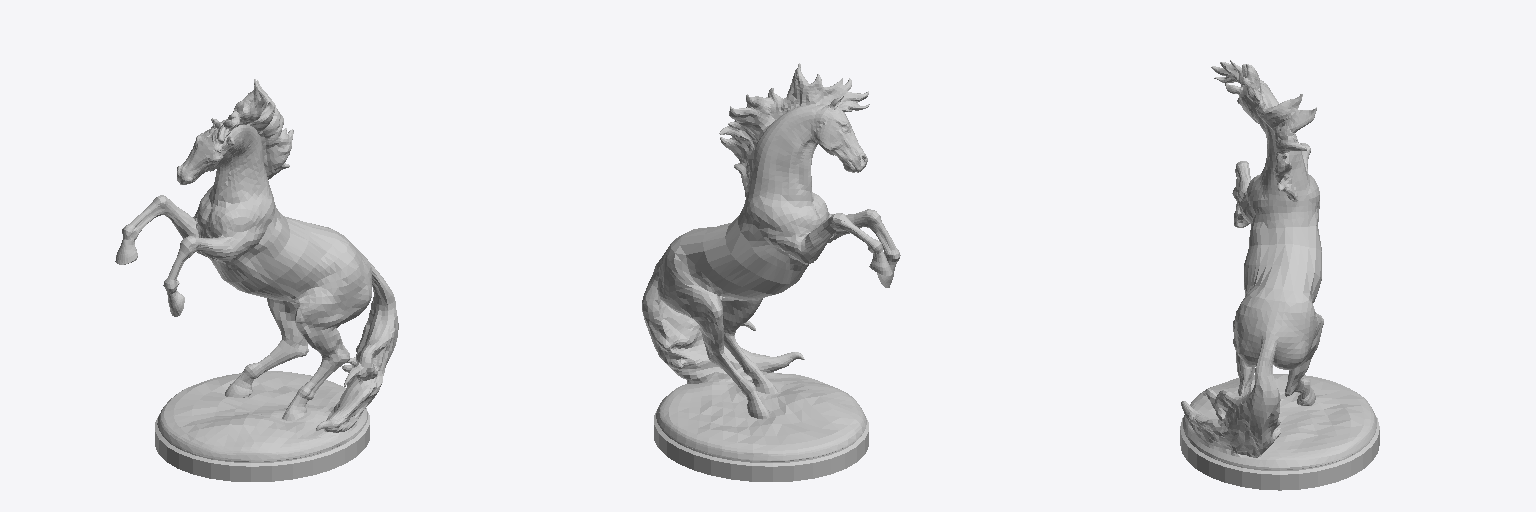
Rendered from horse_statue_01_1k.obj.
3 renders of one model, left to right at view 1: azimuth 30°, elevation 25°; view 2: azimuth 150°, elevation 25°; view 3: azimuth 270°, elevation 25°, orthographic.
Parts seen in each view (by area): view 1: horse_statue_01; view 2: horse_statue_01; view 3: horse_statue_01.
Boxes of the visible parts, <box> form: horse_statue_01: <box>115,79,398,481</box>; horse_statue_01: <box>642,63,900,481</box>; horse_statue_01: <box>1180,60,1379,490</box>.
Bounding box in the file's own units: 0.1638 × 0.22 × 0.1078.